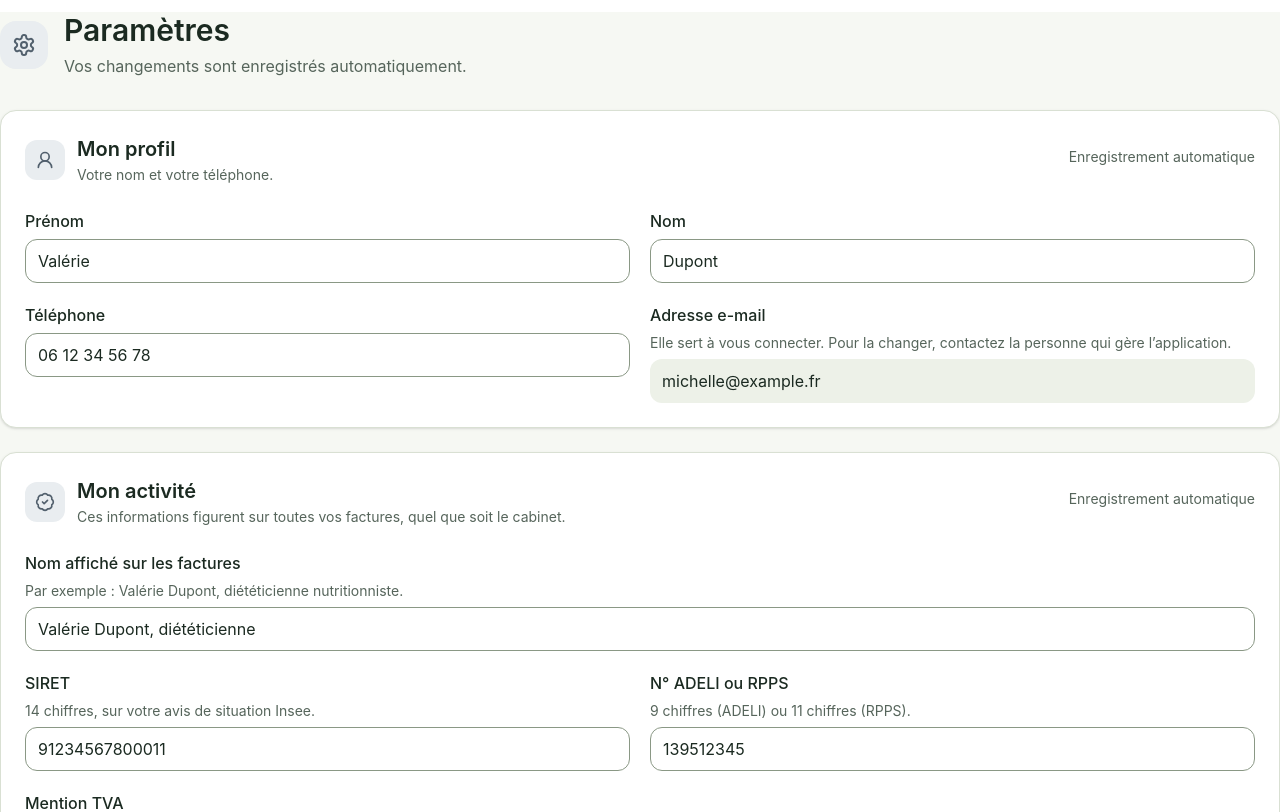
Test: SettingsPage › saves a field when it is left, and says when
Type "07 00 00 00 00" into the field labelled "Téléphone" at (328, 354), box x1=25 y1=332 x2=630 y2=376
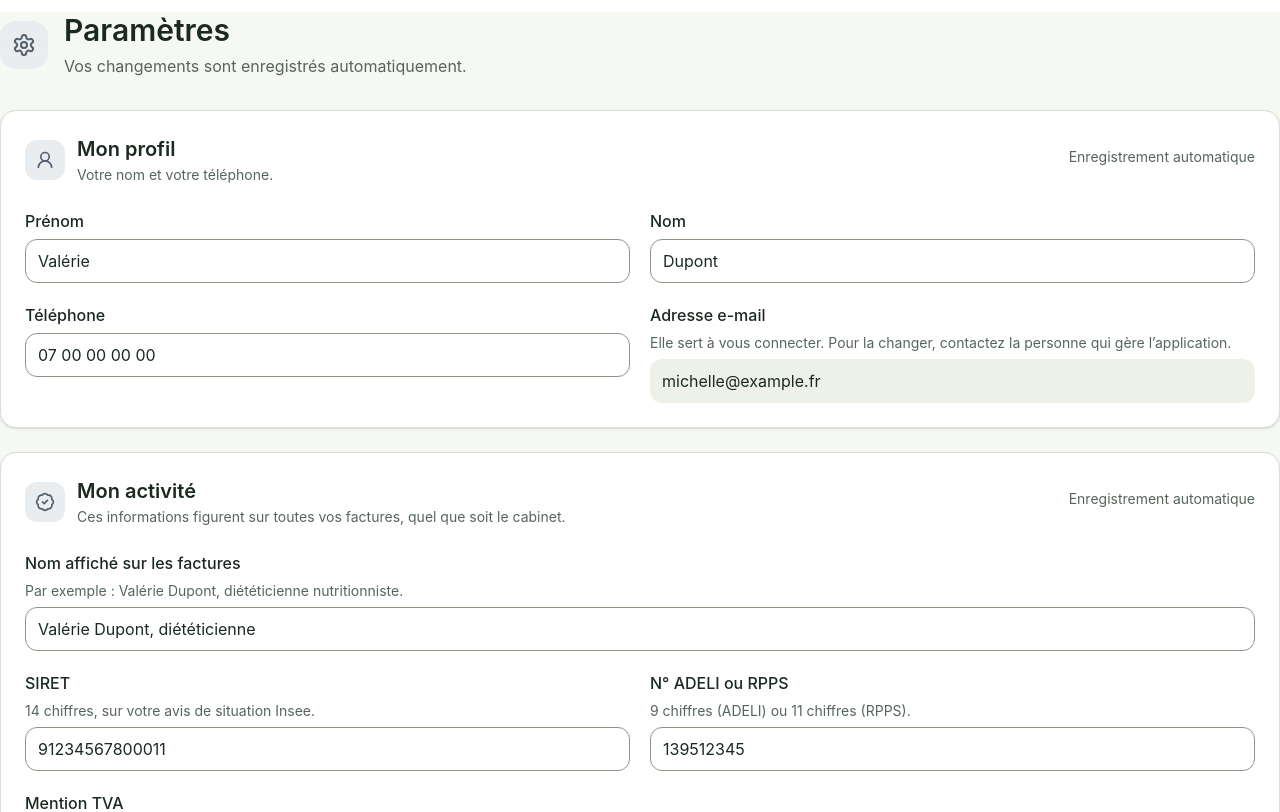
Leave the field labelled "Téléphone", box x1=25 y1=332 x2=630 y2=376
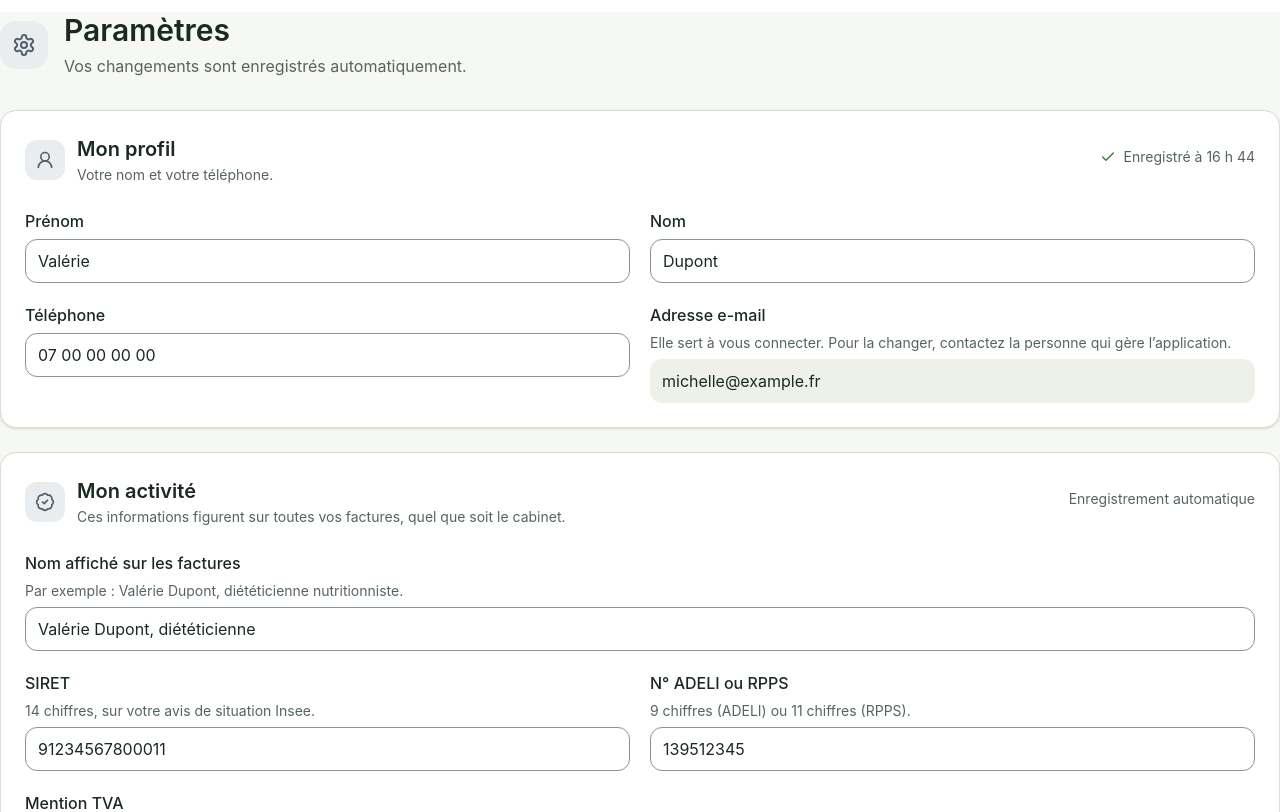
Expected: the text "Enregistré à 16 h 44" is shown, x1=1100 y1=148 x2=1255 y2=164
